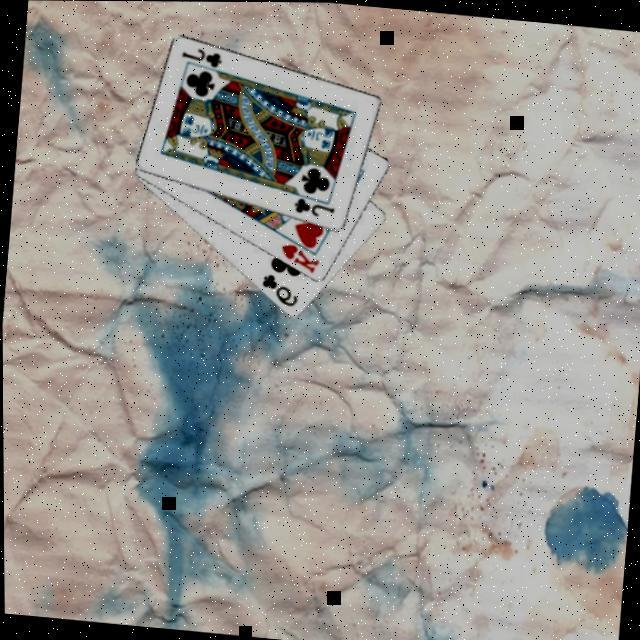6C: (254, 267, 300, 309)
JC: (175, 42, 223, 70), (287, 192, 336, 219)
KH: (273, 238, 321, 274)
